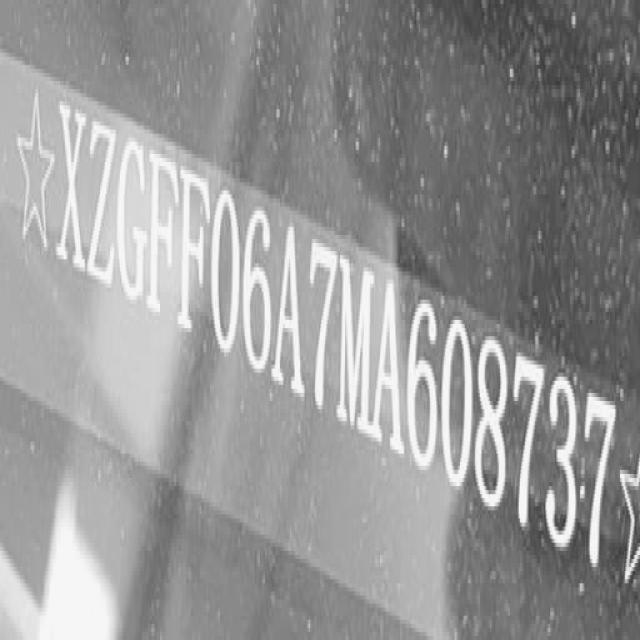0: (442, 311, 474, 500), (212, 181, 242, 366)
3: (545, 363, 578, 558)
6: (407, 290, 441, 480), (244, 196, 276, 384)
7: (584, 378, 618, 580), (514, 342, 546, 540), (308, 235, 337, 426)
8: (475, 326, 510, 520)
A: (370, 275, 407, 463), (276, 215, 303, 405)
F: (179, 163, 211, 347), (147, 147, 179, 326)
G: (118, 133, 148, 310)
M: (337, 249, 375, 444)
X: (54, 94, 85, 278)
Z: (90, 118, 118, 293)
